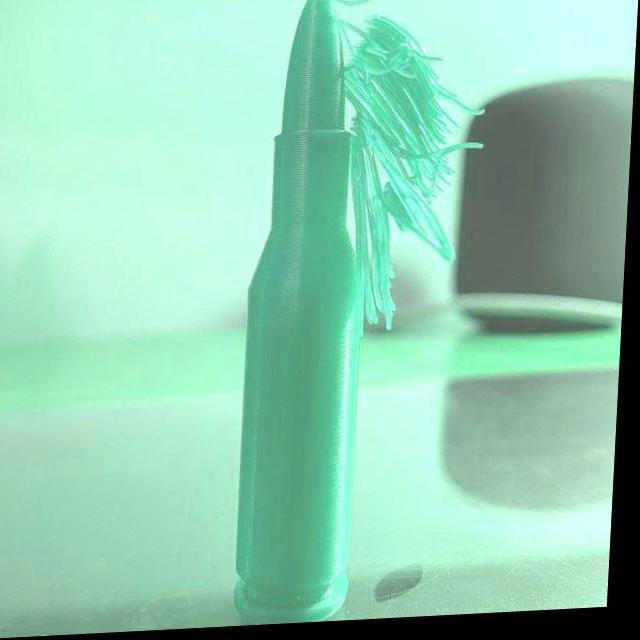spaghetti: (323, 0, 492, 337)
